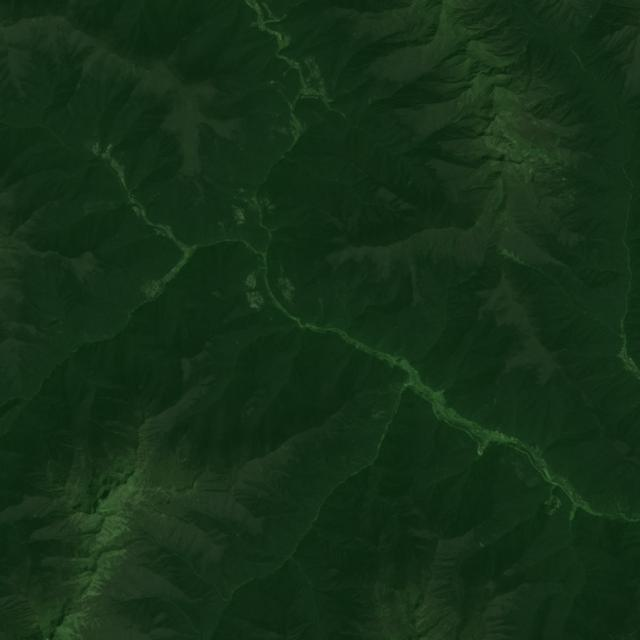landslides: (490, 178, 503, 205), (490, 189, 505, 212), (368, 391, 400, 401), (252, 109, 292, 116), (355, 449, 372, 464), (388, 382, 402, 394), (67, 101, 76, 119), (218, 222, 226, 239), (394, 381, 407, 390)
